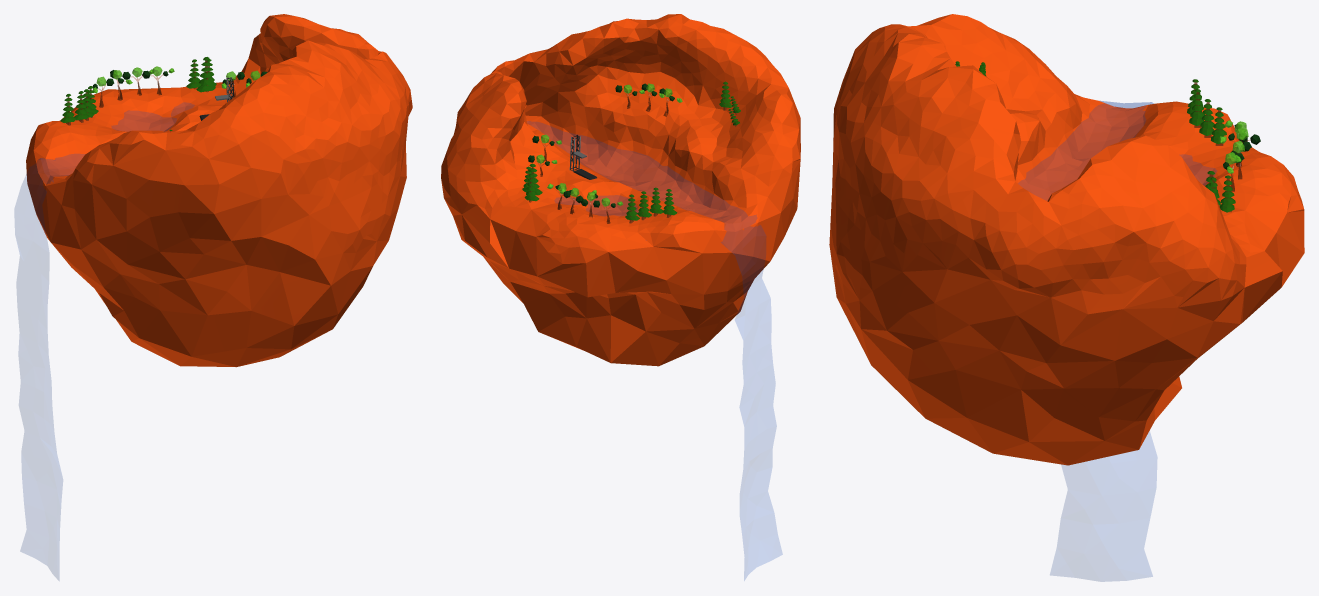
The model's file is island.obj.
3 renders of one model, left to right at view 1: azimuth 30°, elevation 25°; view 2: azimuth 150°, elevation 25°; view 3: azimuth 270°, elevation 25°, orthographic. The views are drawn at different scales.
Parts seen in each view (by area): view 1: base_world_Icosphere, water_mesh_Plane; view 2: base_world_Icosphere, water_mesh_Plane, platform_pad_Cube.022; view 3: base_world_Icosphere, water_mesh_Plane.
Boxes of the visible parts, x1=… form: base_world_Icosphere: x1=26, y1=14, x2=412, y2=367; water_mesh_Plane: x1=15, y1=103, x2=193, y2=579; base_world_Icosphere: x1=441, y1=14, x2=800, y2=366; water_mesh_Plane: x1=527, y1=121, x2=782, y2=580; platform_pad_Cube.022: x1=569, y1=135, x2=596, y2=179; base_world_Icosphere: x1=829, y1=14, x2=1304, y2=465; water_mesh_Plane: x1=1018, y1=101, x2=1216, y2=581.
Bounding box in the file's own units: 20.1 × 29.04 × 19.51.
